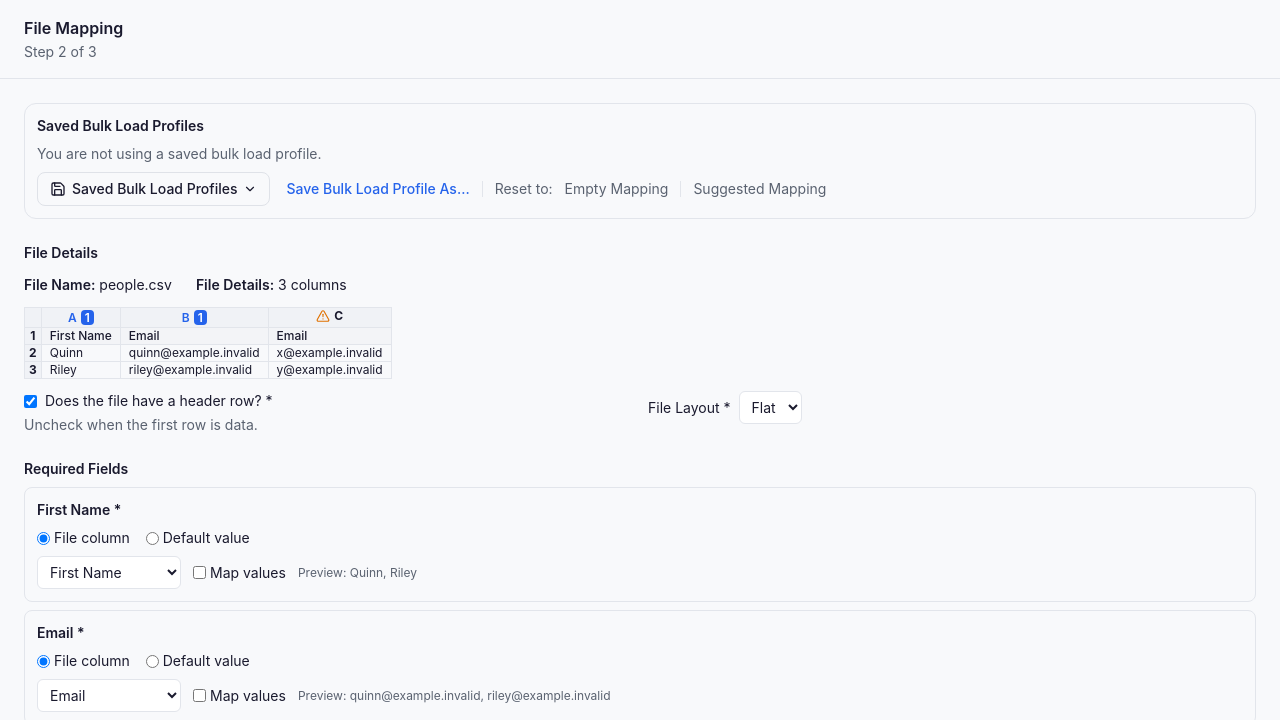
Test: saved bulk load profiles (#726) › resets to an empty or the suggested mapping
This screenshot has width=1280, height=720.
Expected: the dropdown named "Column for Email" shows "Email", [37, 679, 181, 712]
Click the button "Empty Mapping": (616, 189) [561, 179, 672, 199]
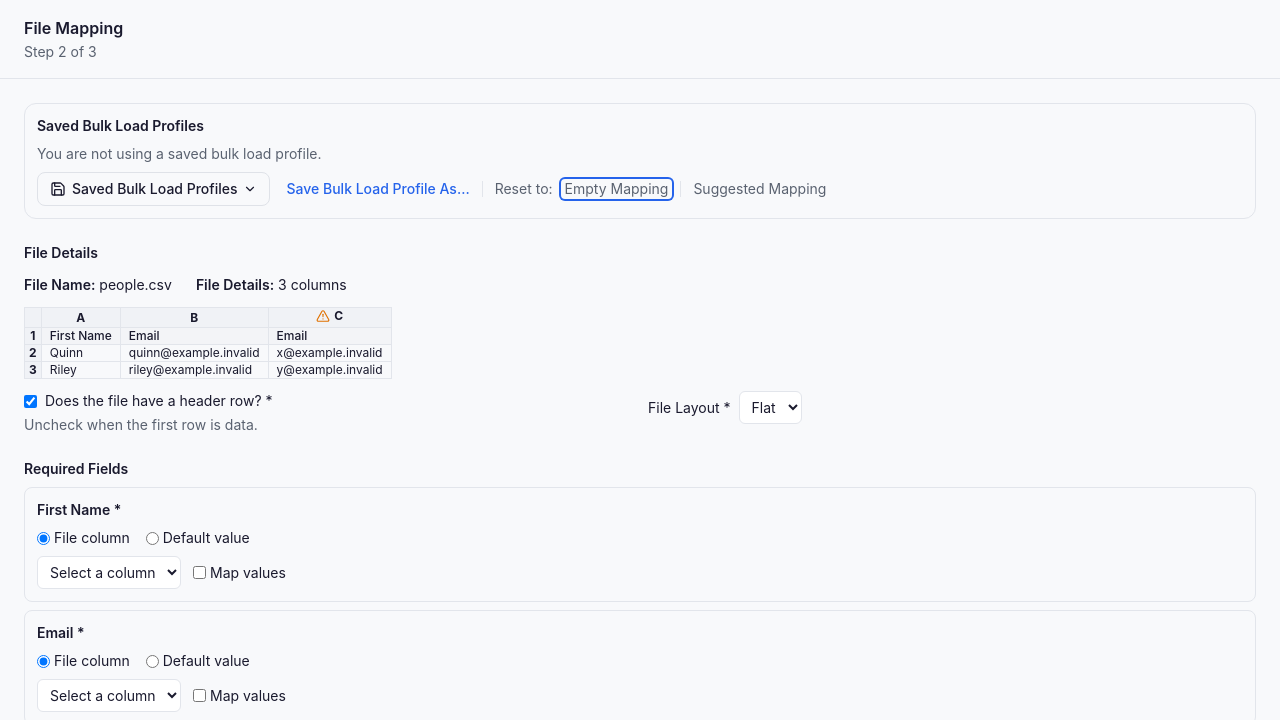
Now the dropdown named "Column for Email" shows "Select a column", box [37, 679, 181, 712]
Click the button "Suggested Mapping": (760, 189) [689, 179, 830, 199]
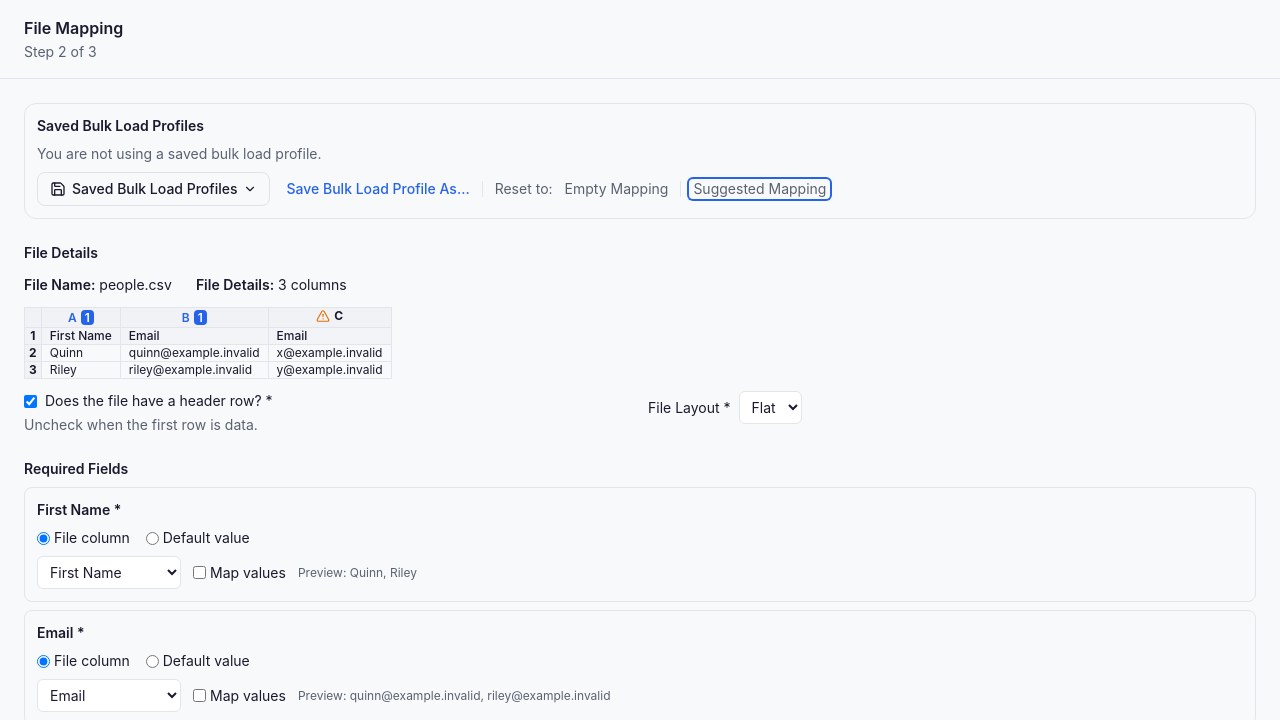
Now the dropdown named "Column for Email" shows "Email", box [37, 679, 181, 712]
